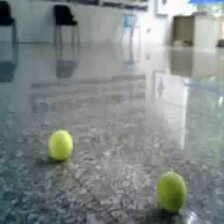tennis: (157, 172, 183, 213), (48, 130, 73, 158)
